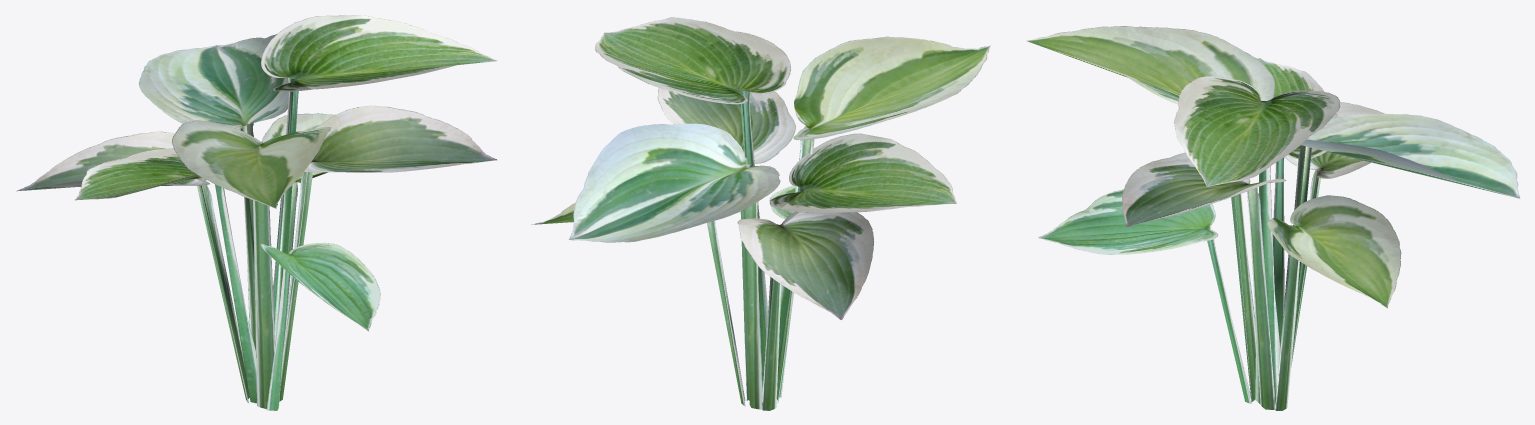
File: plant_small_wg_00F2.fbx
3 renders of one model, left to right at view 1: azimuth 30°, elevation 25°; view 2: azimuth 150°, elevation 25°; view 3: azimuth 270°, elevation 25°, orthographic. The views are drawn at different scales.
Visible parts, largest first — view 1: plant_small_wg_00F2; view 2: plant_small_wg_00F2; view 3: plant_small_wg_00F2.
Boxes of the visible parts, left/top/right/bottom form: plant_small_wg_00F2: left=16, top=15, right=497, bottom=410; plant_small_wg_00F2: left=531, top=17, right=990, bottom=410; plant_small_wg_00F2: left=1026, top=26, right=1520, bottom=410.
Bounding box in the file's own units: 46.31 × 37.75 × 50.83.
1 material, 1 textured.
